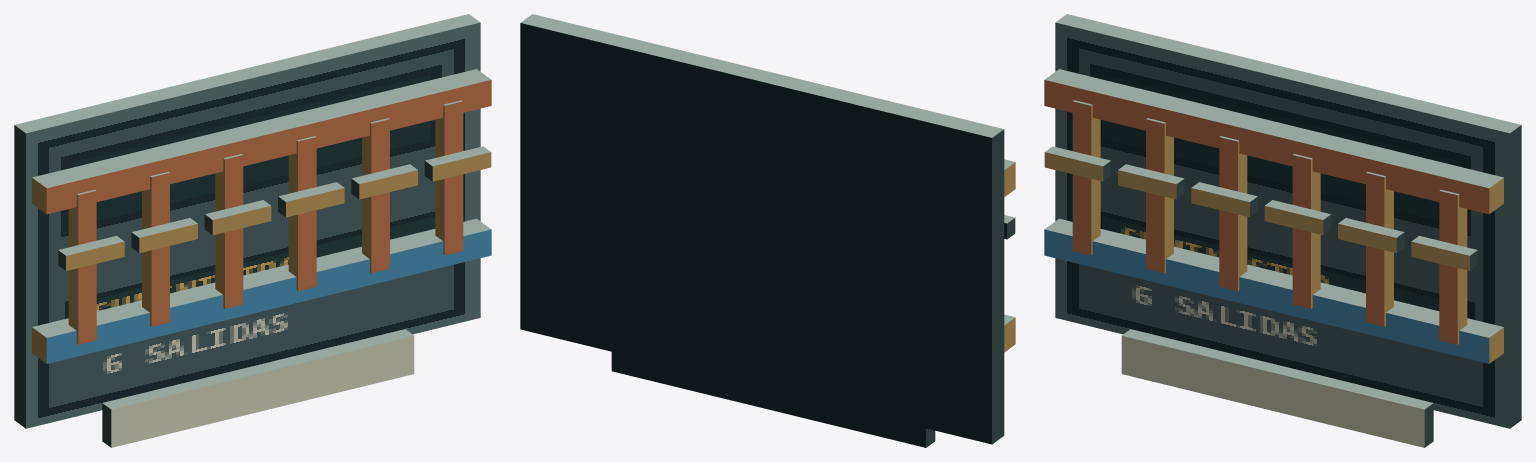
The model's file is colector_tuberias.glb.
3 renders of one model, left to right at view 1: azimuth 30°, elevation 25°; view 2: azimuth 150°, elevation 25°; view 3: azimuth 330°, elevation 25°, orthographic. The views are drawn at different scales.
Visible parts, largest first — view 1: CALDERA_PROPS; view 2: CALDERA_PROPS; view 3: CALDERA_PROPS.
Part boxes in pixels (bbox=[...]): CALDERA_PROPS: bbox=[14, 14, 491, 447]; CALDERA_PROPS: bbox=[520, 14, 1015, 447]; CALDERA_PROPS: bbox=[1044, 14, 1521, 447].
Bounding box in the file's own units: 1.13 × 0.7772 × 0.16.
Materials: 1 (1 with a texture image).
